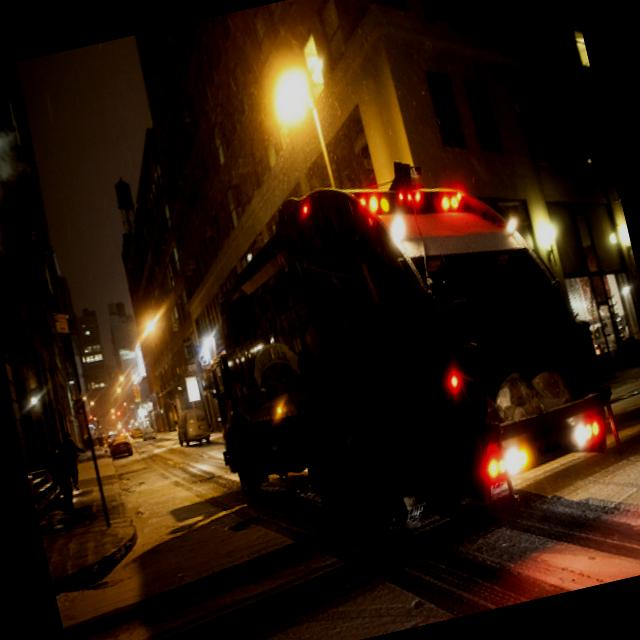Vehicle: (169, 136, 632, 570), (172, 406, 213, 446), (106, 434, 132, 458), (140, 424, 157, 441), (128, 426, 143, 440)
